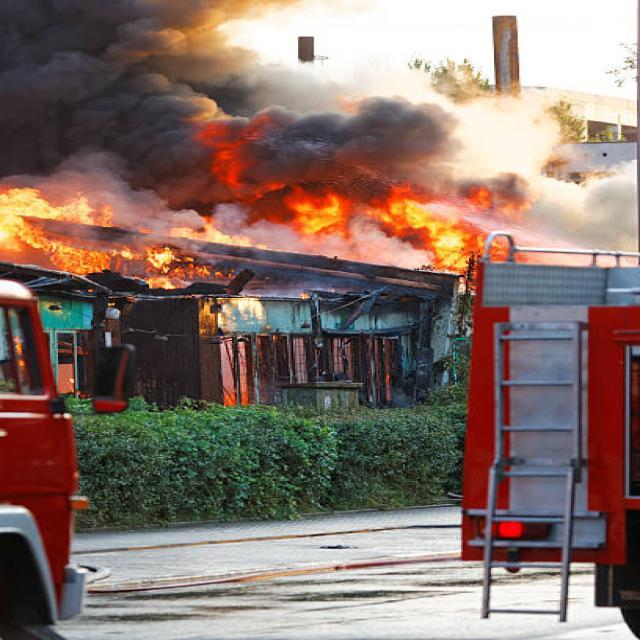Fire: (211, 126, 528, 280), (0, 170, 226, 280)
Smoke: (4, 0, 476, 218)
